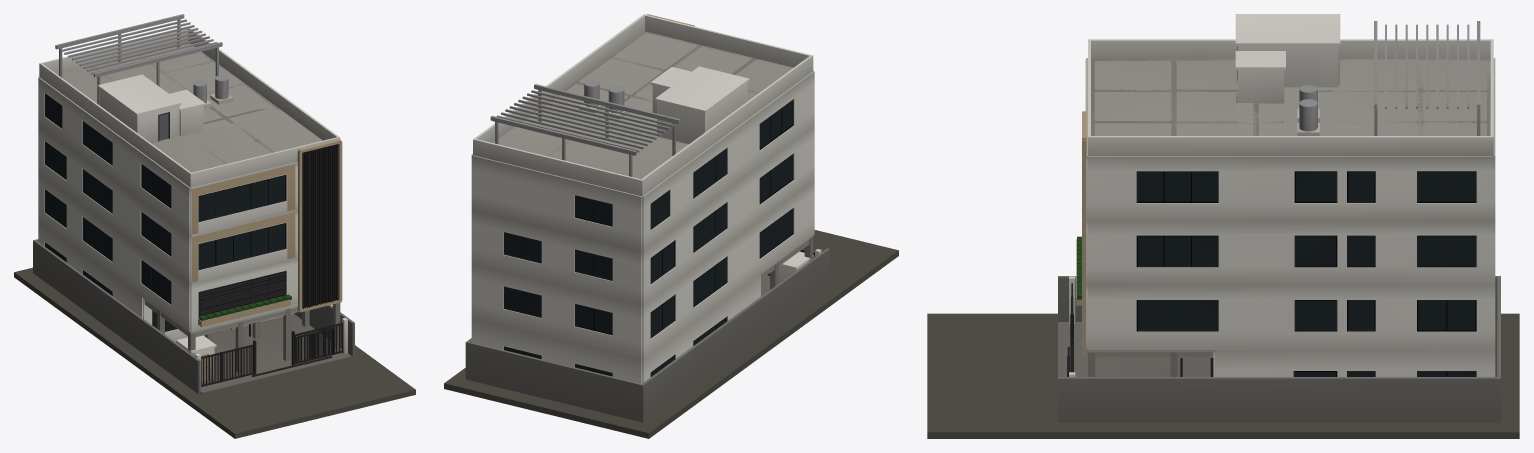
The model's file is Office_ArchiveHQ_Textured.fbx.
3 views of the same model, side by side, from view 1: azimuth 30°, elevation 25°; view 2: azimuth 150°, elevation 25°; view 3: azimuth 270°, elevation 25° (orthographic). The views are drawn at different scales.
Visible parts, largest first — view 1: Office_ArchiveHQ_Walls, Office_ArchiveHQ_Site, Office_ArchiveHQ_Facade, Office_ArchiveHQ_Glazing, Office_ArchiveHQ_Slabs, Office_ArchiveHQ_Rooftop, Office_ArchiveHQ_Boundary, Office_ArchiveHQ_Structure; view 2: Office_ArchiveHQ_Walls, Office_ArchiveHQ_Site, Office_ArchiveHQ_Glazing, Office_ArchiveHQ_Slabs, Office_ArchiveHQ_Rooftop, Office_ArchiveHQ_Structure, Office_ArchiveHQ_Boundary; view 3: Office_ArchiveHQ_Walls, Office_ArchiveHQ_Site, Office_ArchiveHQ_Slabs, Office_ArchiveHQ_Glazing, Office_ArchiveHQ_Rooftop, Office_ArchiveHQ_Structure, Office_ArchiveHQ_Facade, Office_ArchiveHQ_Boundary.
Part boxes in pixels (x1,y1,x2,y2): Office_ArchiveHQ_Walls: [38, 28, 340, 342]; Office_ArchiveHQ_Site: [14, 239, 415, 438]; Office_ArchiveHQ_Facade: [192, 139, 342, 336]; Office_ArchiveHQ_Glazing: [45, 93, 286, 331]; Office_ArchiveHQ_Slabs: [57, 43, 322, 333]; Office_ArchiveHQ_Rooftop: [55, 14, 233, 142]; Office_ArchiveHQ_Boundary: [176, 317, 347, 388]; Office_ArchiveHQ_Structure: [91, 43, 340, 372]; Office_ArchiveHQ_Walls: [471, 14, 814, 383]; Office_ArchiveHQ_Site: [444, 230, 898, 438]; Office_ArchiveHQ_Glazing: [504, 99, 793, 376]; Office_ArchiveHQ_Slabs: [493, 32, 813, 274]; Office_ArchiveHQ_Rooftop: [490, 66, 749, 176]; Office_ArchiveHQ_Structure: [504, 31, 813, 289]; Office_ArchiveHQ_Boundary: [767, 249, 821, 283]; Office_ArchiveHQ_Walls: [1086, 39, 1495, 376]; Office_ArchiveHQ_Site: [927, 276, 1519, 438]; Office_ArchiveHQ_Slabs: [1088, 59, 1490, 352]; Office_ArchiveHQ_Glazing: [1136, 171, 1476, 376]; Office_ArchiveHQ_Rooftop: [1235, 14, 1480, 135]; Office_ArchiveHQ_Structure: [1088, 59, 1490, 376]; Office_ArchiveHQ_Facade: [1076, 59, 1213, 376]; Office_ArchiveHQ_Boundary: [1067, 276, 1075, 376].
Size of the model in its own units: 1500 by 1875 by 3170.
